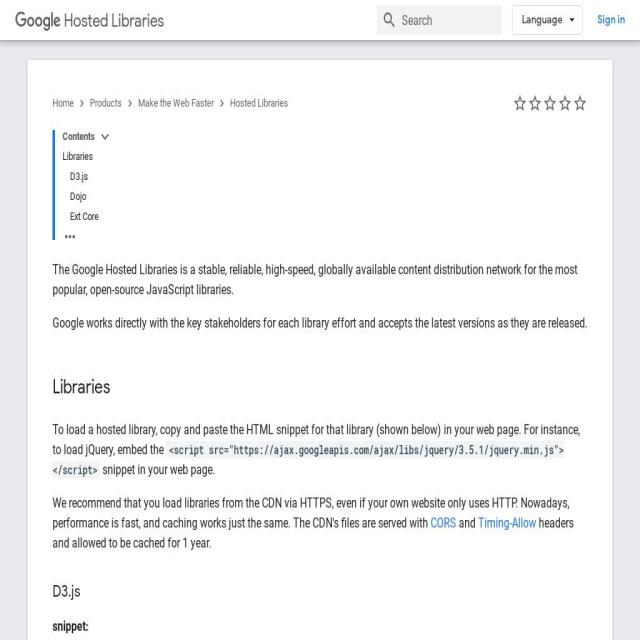button: (62, 146, 588, 166), (70, 166, 588, 186), (70, 186, 588, 206), (70, 206, 588, 226), (15, 7, 164, 34), (512, 5, 582, 35), (138, 94, 214, 114), (230, 94, 288, 114), (592, 5, 630, 35), (90, 94, 122, 114), (63, 130, 95, 147), (52, 94, 74, 114)
field: (377, 5, 502, 35)
heading: (52, 373, 588, 400), (52, 580, 588, 603)
image: (15, 11, 61, 31)
link: (478, 515, 536, 531), (431, 515, 456, 531)
text: (52, 260, 588, 300), (52, 422, 580, 458), (52, 441, 564, 478), (52, 515, 574, 551), (52, 495, 570, 531), (52, 314, 588, 334), (52, 616, 588, 636), (64, 9, 164, 32), (100, 462, 215, 478), (63, 130, 95, 143), (63, 150, 93, 163), (70, 210, 99, 223), (456, 515, 478, 531), (70, 170, 88, 183), (70, 190, 86, 203)
